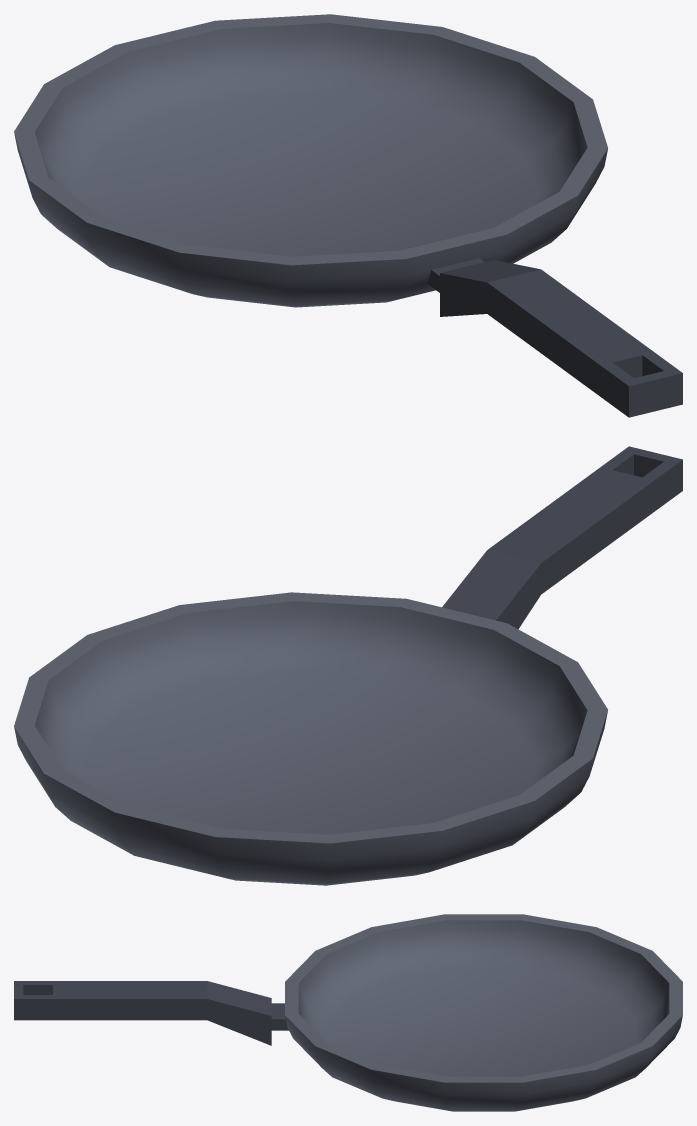
Rendered from Pan.fbx.
3 views of the same model, one above another, from view 1: azimuth 30°, elevation 25°; view 2: azimuth 150°, elevation 25°; view 3: azimuth 270°, elevation 25° (orthographic). The views are drawn at different scales.
Parts seen in each view (by area): view 1: Pan; view 2: Pan; view 3: Pan.
Boxes of the visible parts, left/top/right/bottom form: Pan: left=14, top=14, right=682, bottom=417; Pan: left=14, top=446, right=682, bottom=885; Pan: left=14, top=914, right=682, bottom=1111.
Size of the model in its own units: 84.3 by 12.97 by 142.
